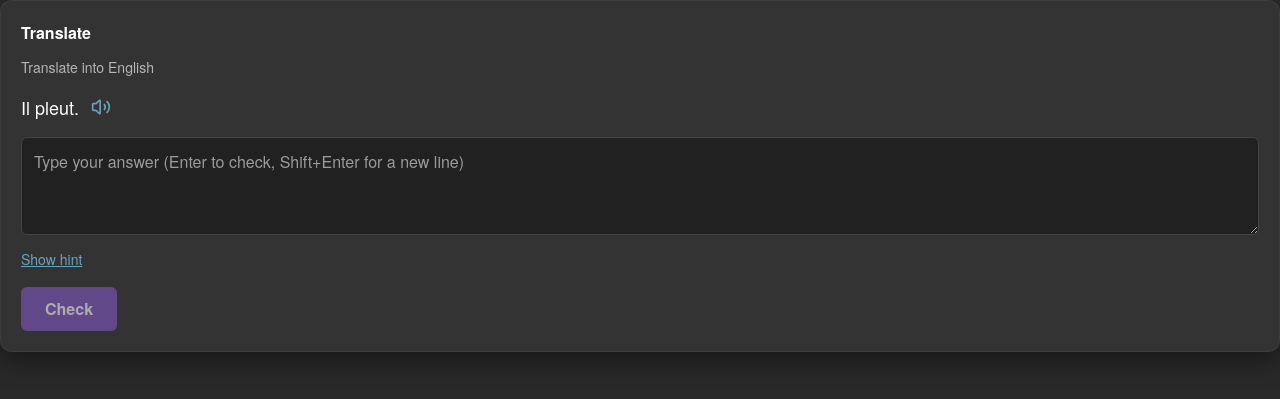
Test: ExerciseCard › translate fr_en shows a speak button for the prompt and a hint toggle
The image size is (1280, 399).
Expected: the text "Translate into English" is shown, [21,57,154,77]
Expected: the button named "Écouter : Il pleut." is shown, [83,89,119,125]
Click the button "Show hint".
click(52, 259)  # box [21,249,82,269]
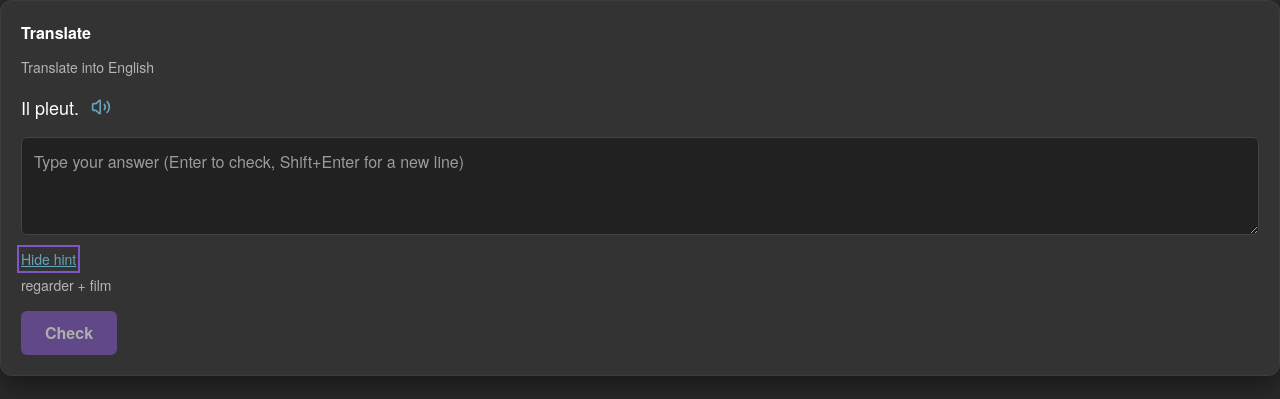
Expected: the text "regarder + film" is shown, [21,275,111,295]
